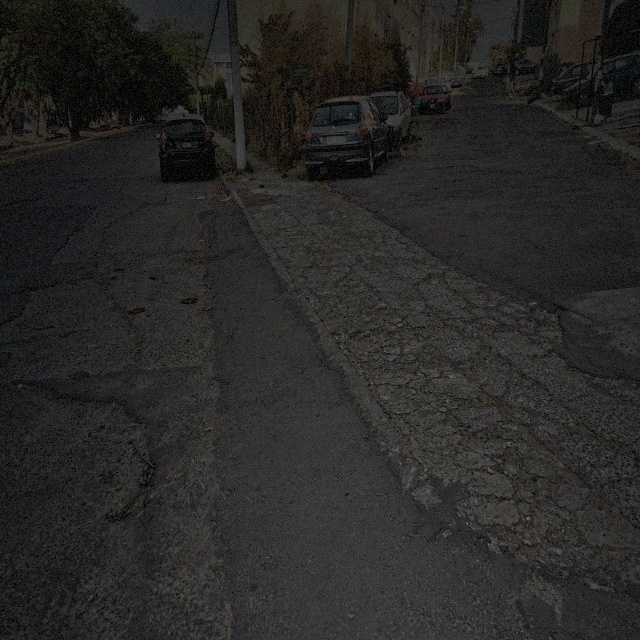pothole: (552, 303, 567, 347)
